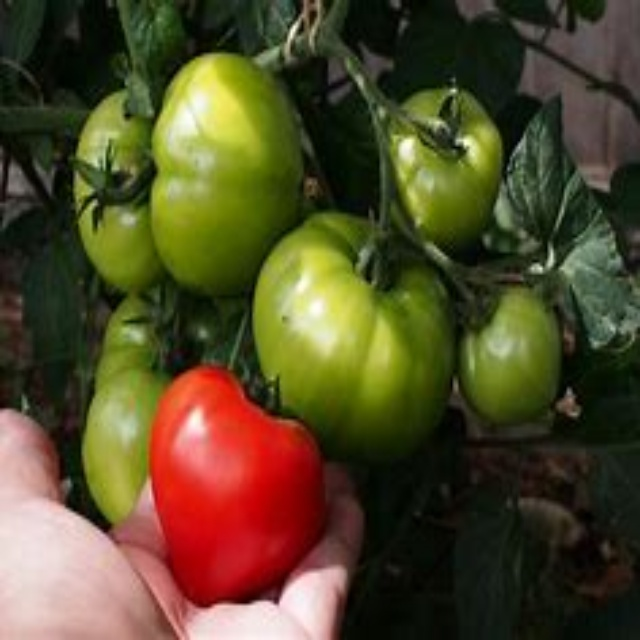tomato: (130, 367, 344, 605), (257, 213, 458, 464), (53, 287, 197, 527), (151, 57, 298, 290), (384, 87, 501, 247), (80, 104, 171, 305), (454, 289, 568, 418)
